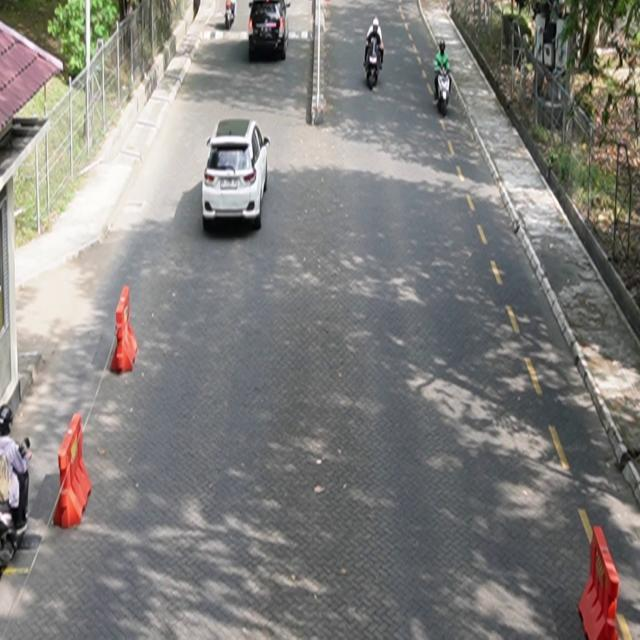car: (203, 119, 271, 231), (248, 1, 291, 61)
